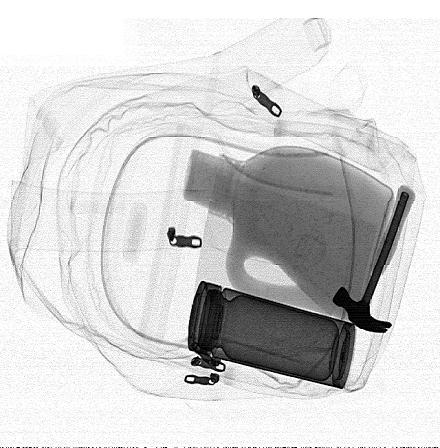Hammer: (332, 184, 416, 334)
